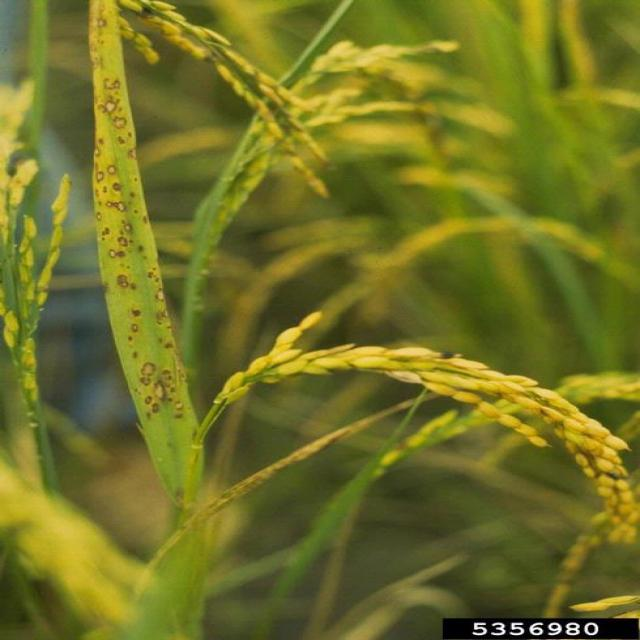Brown spot: (93, 2, 113, 30), (92, 34, 110, 63), (95, 97, 124, 115), (113, 272, 139, 292), (140, 264, 164, 285), (97, 75, 122, 92), (102, 116, 130, 129), (176, 353, 188, 382), (146, 288, 168, 303), (154, 382, 171, 399), (104, 200, 128, 212), (154, 309, 172, 325), (118, 220, 134, 236), (122, 322, 143, 334), (140, 362, 158, 376), (106, 248, 128, 259), (124, 307, 144, 318), (115, 237, 136, 247), (126, 146, 138, 163), (100, 227, 113, 242), (135, 377, 154, 386), (106, 163, 120, 175), (94, 170, 106, 182), (137, 243, 150, 254), (112, 135, 126, 145), (109, 181, 123, 191), (97, 135, 107, 148), (165, 338, 175, 351), (143, 394, 154, 404), (128, 351, 143, 358), (95, 211, 104, 222), (174, 412, 188, 419), (140, 216, 152, 224), (94, 148, 103, 158), (154, 336, 165, 344), (152, 403, 160, 414), (98, 186, 110, 193), (124, 336, 138, 342), (125, 131, 136, 138), (173, 402, 184, 409), (160, 369, 172, 375), (96, 200, 104, 208), (146, 412, 154, 420), (132, 174, 139, 183), (126, 192, 136, 198), (164, 375, 174, 380), (132, 208, 138, 215)
